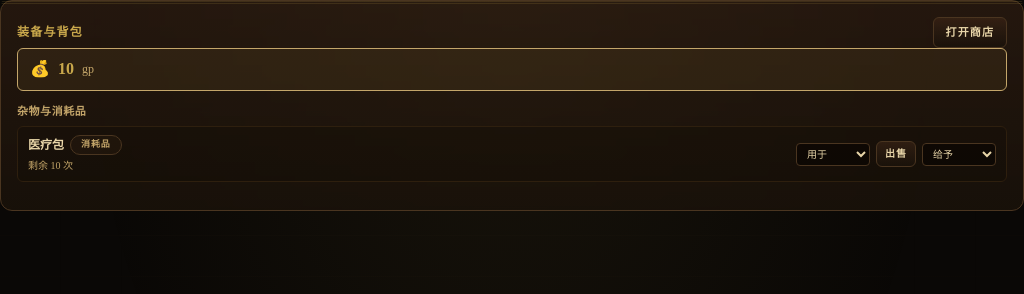
InventoryPanel › uses a healer kit on a selected party target and updates remaining uses
Expected: the text "剩余 10 次" is shown, [28,158,73,173]
Select "测试队友" in the dropdown named "用于 医疗包" at (833, 154), box [796,143,870,166]
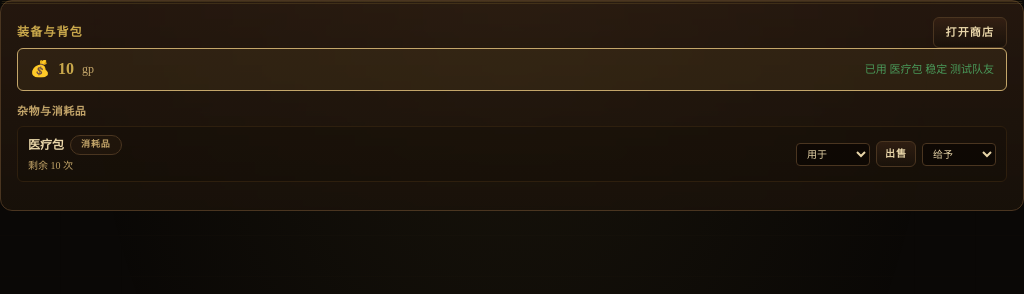
Result: the text "已用 医疗包 稳定 测试队友" is shown at [865,61,994,78]
